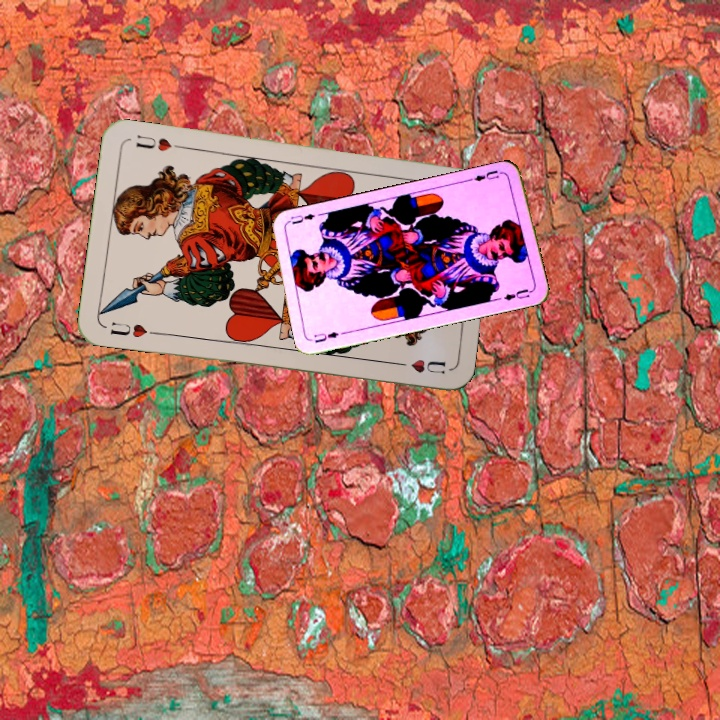EU: (466, 166, 507, 184), (310, 327, 341, 346)
HU: (106, 318, 160, 341)
